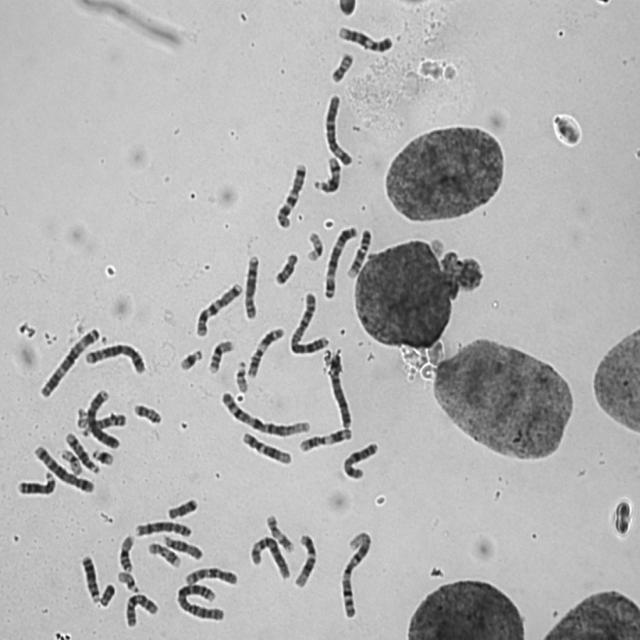A1: (216, 386, 312, 438), (337, 526, 374, 619)
A2: (286, 288, 331, 356), (172, 579, 226, 623)
A3: (35, 322, 102, 398), (320, 221, 360, 300)
B4: (84, 385, 121, 450), (325, 348, 353, 429)
B5: (29, 441, 96, 495), (80, 338, 147, 375)
C10: (121, 588, 159, 629), (181, 562, 238, 586)
C11: (244, 323, 285, 379), (295, 423, 354, 453)
C12: (237, 427, 293, 466), (290, 529, 318, 588)
C6: (320, 90, 354, 167), (246, 530, 292, 580)
C7: (192, 278, 243, 338), (272, 159, 308, 230)
C8: (131, 516, 193, 539), (240, 250, 260, 320)
C9: (334, 22, 394, 53), (343, 224, 374, 279)
D13: (13, 467, 56, 498), (76, 551, 101, 603)
D14: (62, 428, 102, 476), (310, 152, 342, 194)
D15: (70, 404, 126, 435), (159, 530, 203, 561)
E16: (204, 335, 236, 374), (114, 531, 136, 573)
E17: (262, 509, 295, 554), (144, 538, 182, 569)
E18: (270, 248, 300, 286), (163, 494, 199, 520)
F19: (56, 446, 84, 476), (303, 227, 324, 262)
F20: (327, 49, 354, 84), (130, 398, 163, 426)
G21: (175, 344, 204, 372), (88, 444, 115, 466)
G22: (232, 356, 250, 394), (114, 568, 140, 593)
X: (339, 437, 380, 481)
Y: (96, 579, 116, 607)
